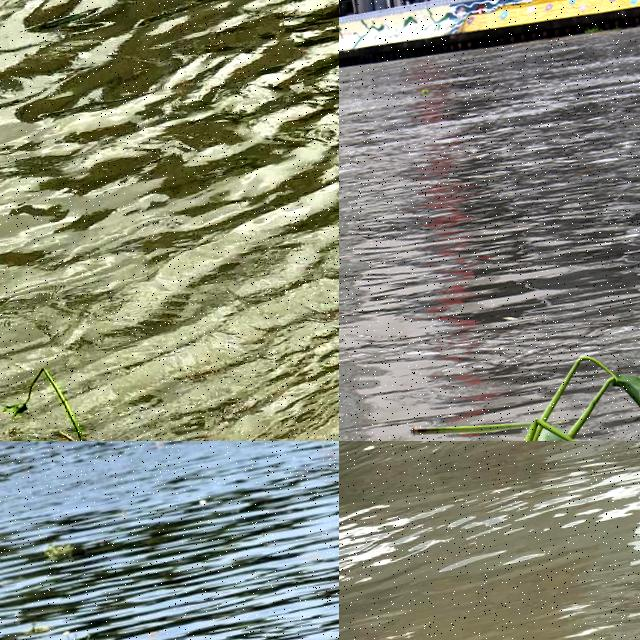water-hyacinth: (385, 322, 640, 442), (1, 365, 115, 442), (43, 533, 79, 563)
